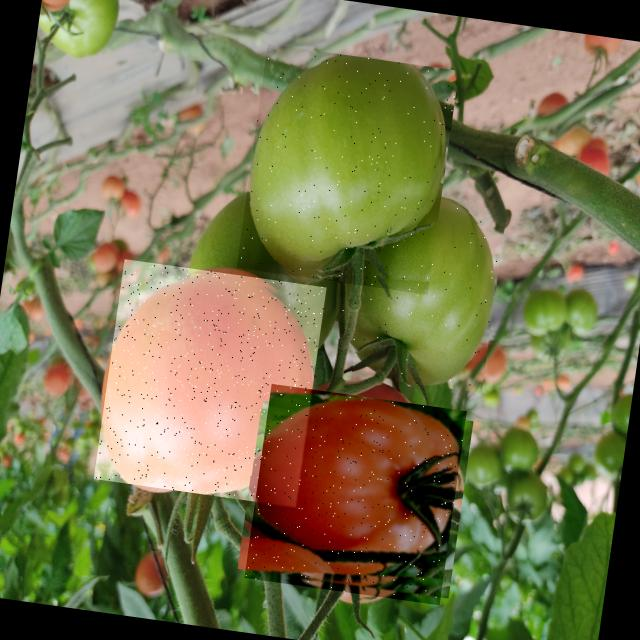Ripe Tomato: (94, 260, 327, 508), (244, 384, 466, 606)
Unripe Tomato: (236, 43, 459, 294), (328, 186, 508, 394)
